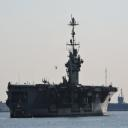Portanaves: (6, 12, 120, 122)
